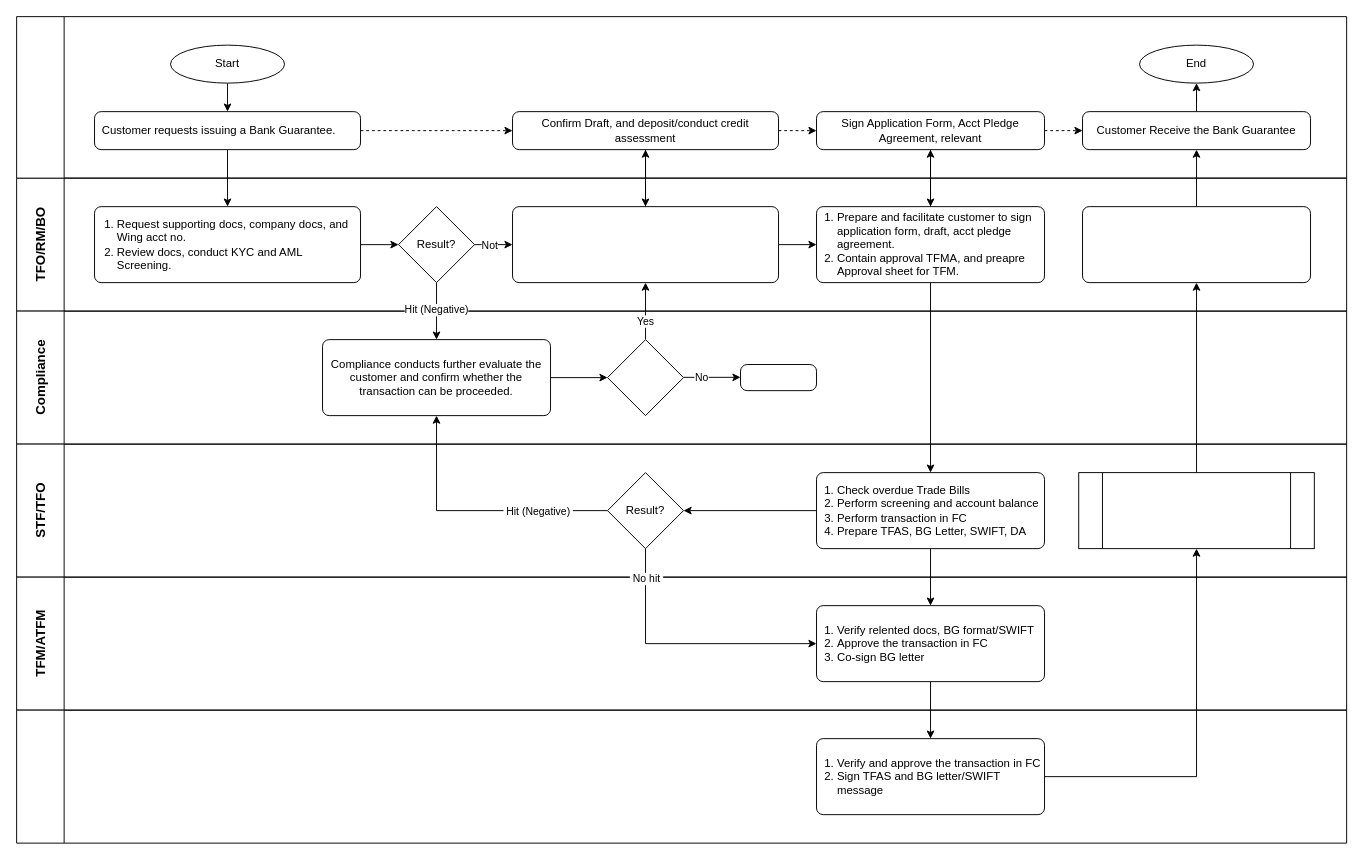
This 1363x860 diagram has some shape labels left out. The shapes that lost their labels are listed below. From the top down, each one's centre as x and y in pixels, then its label:
(x=681, y=97): Customer
(x=645, y=244): Draft, and fill in application form
(x=1196, y=244): Contact customer to pick up the Bank Guarantee and debit advice.
(x=645, y=377): Approve?
(x=778, y=377): Reject
(x=1196, y=510): Print company stamp on Original BG letter Scan BG letter and filing customer
(x=681, y=776): DTFA/HTF
